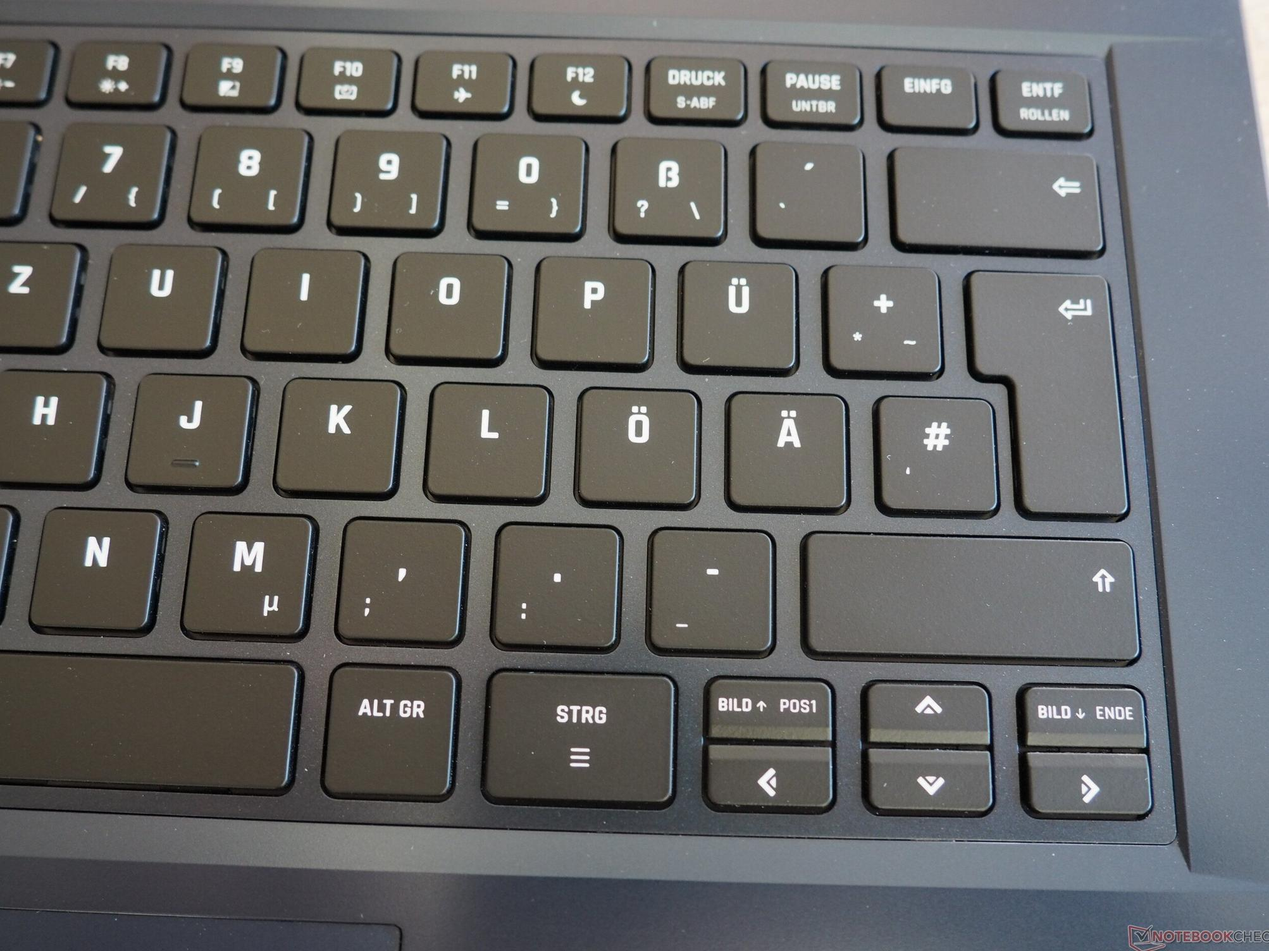0: (466, 128, 590, 237)
7: (46, 118, 173, 226)
8: (185, 120, 312, 230)
9: (325, 125, 451, 233)
accent: (749, 136, 869, 245)
ae: (721, 386, 851, 513)
altgr-right: (322, 661, 462, 805)
comma: (331, 512, 471, 642)
del: (884, 142, 1109, 254)
enter: (956, 259, 1131, 517)
h: (1, 363, 109, 487)
hash: (869, 388, 1003, 515)
i: (239, 242, 369, 358)
j: (122, 367, 257, 491)
k: (269, 371, 406, 497)
keyboard: (1, 1, 1216, 887)
l: (420, 377, 554, 503)
m: (176, 505, 316, 639)
minus: (642, 523, 779, 654)
n: (24, 501, 166, 632)
o: (381, 245, 513, 364)
oe: (571, 382, 703, 508)
p: (528, 250, 657, 368)
plus: (819, 259, 947, 376)
point: (487, 517, 625, 649)
shift-right: (791, 526, 1144, 661)
space: (1, 646, 304, 793)
ss: (607, 133, 729, 242)
strg-right: (474, 666, 684, 809)
u: (94, 238, 226, 356)
ue: (674, 255, 803, 374)
z: (1, 235, 83, 349)
